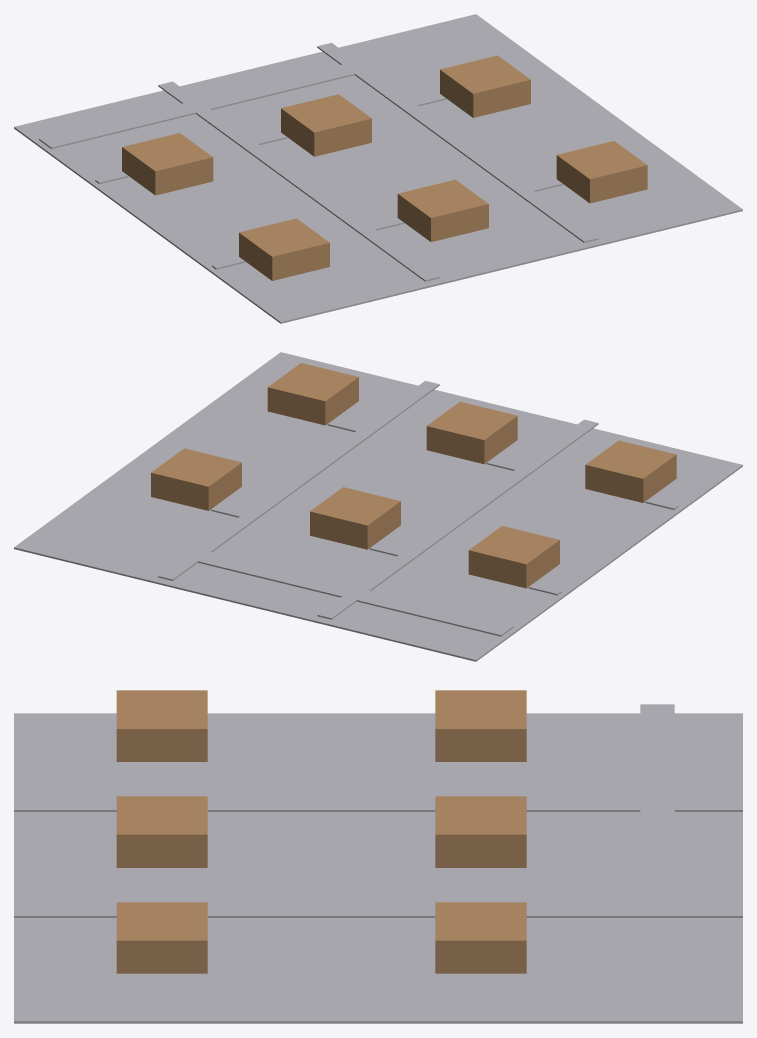
The model's file is city_c00_02.glb.
3 renders of one model, top to bottom at view 1: azimuth 30°, elevation 25°; view 2: azimuth 150°, elevation 25°; view 3: azimuth 270°, elevation 25°, orthographic. The views are drawn at different scales.
Visible parts, largest first — view 1: terrain_west_proxy__c00_02, road_cross_west__c00_02, road_west_1__c00_02, road_west_0__c00_02, building_061__c00_02, building_060__c00_02, building_052__c00_02, building_051__c00_02, building_050__c00_02, building_062__c00_02; view 2: terrain_west_proxy__c00_02, road_cross_west__c00_02, road_west_1__c00_02, road_west_0__c00_02, building_062__c00_02, building_061__c00_02, building_060__c00_02, building_052__c00_02, building_050__c00_02, building_051__c00_02; view 3: terrain_west_proxy__c00_02, road_cross_west__c00_02, building_050__c00_02, building_051__c00_02, building_052__c00_02, building_060__c00_02, building_061__c00_02, building_062__c00_02, road_west_1__c00_02, road_west_0__c00_02.
Part boxes in pixels (left/top/right/bottom): terrain_west_proxy__c00_02: left=14, top=14, right=742, bottom=323; road_cross_west__c00_02: left=39, top=61, right=368, bottom=148; road_west_1__c00_02: left=158, top=81, right=439, bottom=281; road_west_0__c00_02: left=317, top=42, right=598, bottom=242; building_061__c00_02: left=397, top=179, right=488, bottom=242; building_060__c00_02: left=556, top=141, right=647, bottom=203; building_052__c00_02: left=122, top=133, right=213, bottom=195; building_051__c00_02: left=281, top=94, right=371, bottom=156; building_050__c00_02: left=440, top=55, right=530, bottom=117; building_062__c00_02: left=239, top=218, right=329, bottom=280; terrain_west_proxy__c00_02: left=14, top=352, right=742, bottom=661; road_cross_west__c00_02: left=183, top=548, right=513, bottom=636; road_west_1__c00_02: left=317, top=419, right=598, bottom=619; road_west_0__c00_02: left=158, top=380, right=439, bottom=580; building_062__c00_02: left=585, top=440, right=676, bottom=502; building_061__c00_02: left=426, top=401, right=517, bottom=464; building_060__c00_02: left=267, top=363, right=358, bottom=425; building_052__c00_02: left=468, top=526, right=559, bottom=588; building_050__c00_02: left=151, top=448, right=241, bottom=510; building_051__c00_02: left=310, top=487, right=400, bottom=549; terrain_west_proxy__c00_02: left=14, top=713, right=742, bottom=1023; road_cross_west__c00_02: left=640, top=704, right=674, bottom=917; building_050__c00_02: left=435, top=902, right=526, bottom=973; building_051__c00_02: left=435, top=796, right=526, bottom=867; building_052__c00_02: left=435, top=690, right=526, bottom=761; building_060__c00_02: left=116, top=902, right=207, bottom=973; building_061__c00_02: left=116, top=796, right=207, bottom=867; building_062__c00_02: left=116, top=690, right=207, bottom=761; road_west_1__c00_02: left=14, top=800, right=742, bottom=811; road_west_0__c00_02: left=14, top=906, right=742, bottom=917.
Size of the model in its own units: 128 by 8.6 by 128.
